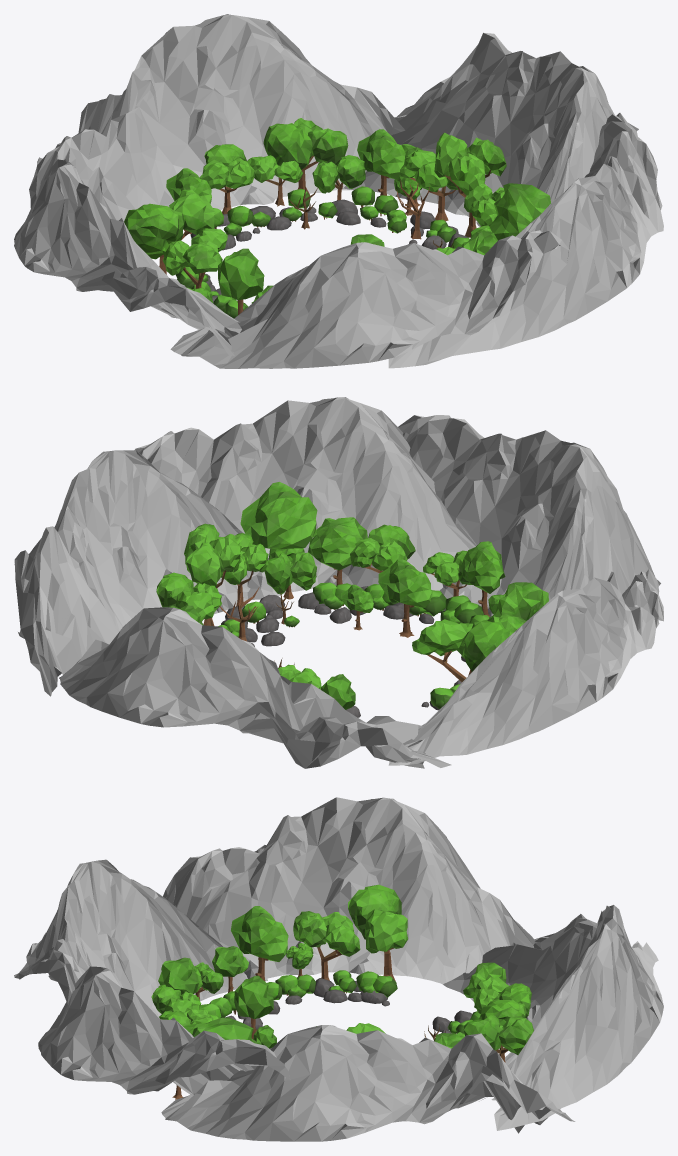
The model's file is env.fbx.
3 views of the same model, one above another, from view 1: azimuth 30°, elevation 25°; view 2: azimuth 150°, elevation 25°; view 3: azimuth 270°, elevation 25° (orthographic). The views are drawn at different scales.
Parts seen in each view (by area): view 1: Mountain, polySurface91, bark2, polySurface90, polySurface92, tree8, polySurface94, tree9, tree4, polySurface43, bark4, polySurface95 (+3 smaller); view 2: Mountain, tree8, polySurface91, polySurface90, tree13, tree7, polySurface93, bark5, polySurface43, tree11, tree9, polySurface97 (+4 smaller); view 3: Mountain, polySurface91, bark2, polySurface92, tree9, tree7, polySurface94, tree11, polySurface99, tree8, tree16, tree12 (+3 smaller).
Boxes of the visible parts, x1,y1,x2,y2 form: Mountain: [14, 14, 663, 368]; polySurface91: [124, 189, 214, 274]; bark2: [263, 118, 348, 195]; polySurface90: [434, 132, 506, 237]; polySurface92: [162, 228, 227, 288]; tree8: [489, 183, 550, 240]; polySurface94: [199, 144, 254, 214]; tree9: [218, 248, 264, 314]; tree4: [357, 129, 405, 195]; polySurface43: [400, 150, 458, 221]; bark4: [312, 155, 365, 200]; polySurface95: [247, 155, 302, 206]; Mountain: [14, 397, 663, 768]; tree8: [240, 482, 317, 549]; polySurface91: [412, 619, 511, 681]; polySurface90: [184, 523, 241, 626]; tree13: [308, 517, 367, 585]; tree7: [378, 559, 431, 637]; polySurface93: [350, 524, 415, 573]; bark5: [264, 548, 316, 599]; polySurface43: [156, 572, 221, 621]; tree11: [461, 541, 505, 616]; tree9: [487, 582, 548, 621]; polySurface97: [220, 533, 268, 606]; Mountain: [14, 797, 663, 1141]; polySurface91: [348, 884, 407, 980]; bark2: [463, 1000, 533, 1062]; polySurface92: [293, 911, 360, 980]; tree9: [231, 906, 288, 981]; tree7: [234, 975, 273, 1039]; polySurface94: [473, 977, 531, 1017]; tree11: [158, 957, 202, 994]; polySurface99: [151, 984, 201, 1016]; tree8: [188, 1017, 259, 1044]; tree16: [212, 946, 248, 992]; tree12: [463, 962, 506, 997].
Bounding box in the file's own units: 304 × 75.72 × 307.
